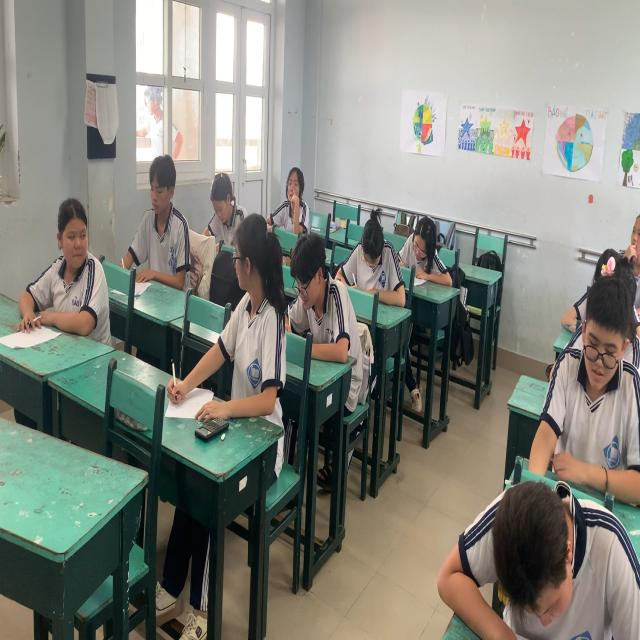cheating: (226, 226, 287, 416), (44, 184, 106, 350)
not_cheating: (487, 475, 606, 640), (285, 223, 347, 354), (133, 150, 193, 272), (574, 292, 625, 430), (349, 195, 395, 295), (267, 150, 322, 229), (200, 160, 236, 243), (403, 210, 442, 274)
